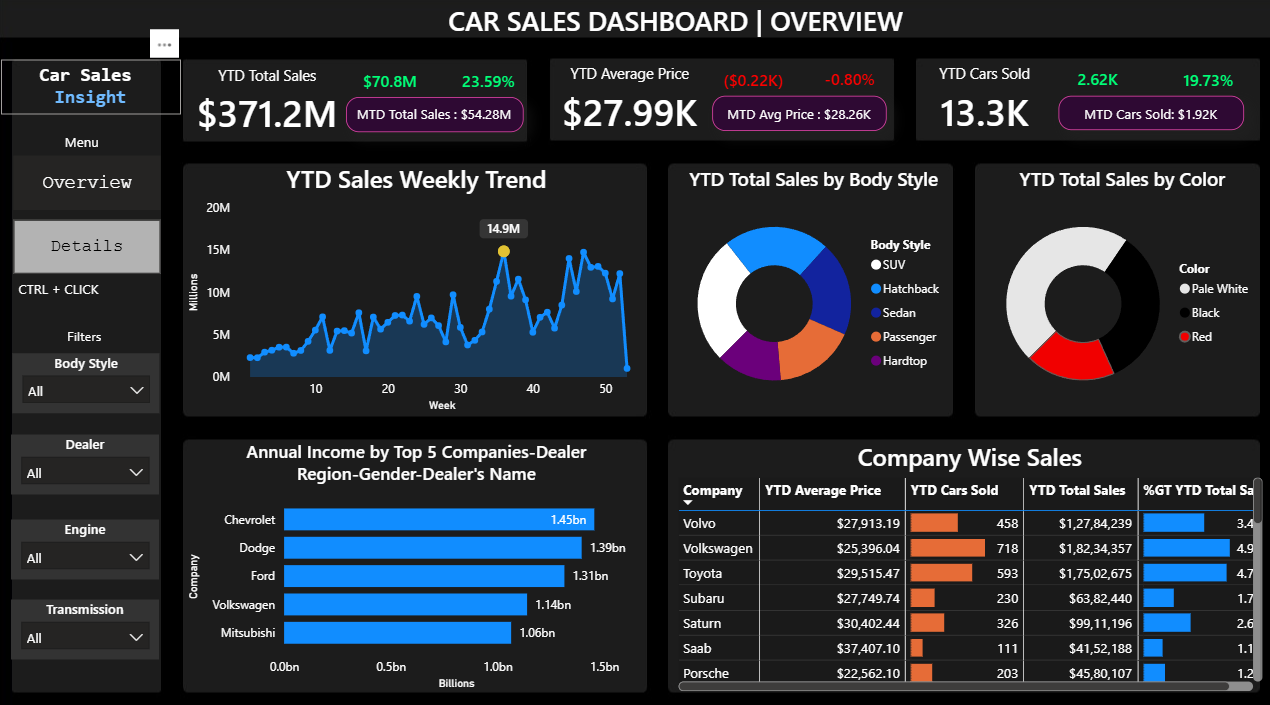

The page's visual inventory and layout, read from the dashboard file:
{"tool":"powerbi","page":{"name":"Overview","canvas":[1280,720],"ordinal":0},"visuals":[{"type":"card","title":"YTD Total Sales","fields":{"Values":["car_data.YTD Total Sales"]},"box":[178.9,67.2,185,76.7],"z":0},{"type":"card","fields":{"Values":["car_data.Sales Difference"]},"box":[355,68.3,78.3,35],"z":1000},{"type":"card","fields":{"Values":["car_data.YoY Sales Growth"]},"box":[458.5,70.5,68,25],"z":2000},{"type":"card","fields":{"Values":["car_data.MTD KPI"]},"box":[350,100,177.3,35.3],"z":3000},{"type":"card","title":"YTD Average Price","fields":{"Values":["car_data.YTD Average Price"]},"box":[540.8,65.8,185,76.7],"z":4000},{"type":"card","fields":{"Values":["car_data.Average Price Diff"]},"box":[685,67,145,35],"z":5000},{"type":"card","fields":{"Values":["car_data.YoY Avg Price Growth"]},"box":[820,69,68,25],"z":6000},{"type":"card","fields":{"Values":["car_data.MTD Avg Price KPI"]},"box":[715.8,99.2,174.2,35],"z":7000},{"type":"card","title":"YTD Cars Sold","fields":{"Values":["car_data.YTD Cars Sold"]},"box":[895.8,65.8,185,76.7],"z":8000},{"type":"card","fields":{"Values":["car_data.Sales Difference"]},"box":[1400,67.5,77.5,35],"z":9000},{"type":"card","fields":{"Values":["car_data.Total Cars Sold Diff"]},"box":[1029,68,146,34],"z":10000},{"type":"card","fields":{"Values":["car_data.Total Cars Sold Diff"]},"box":[1970.8,81.7,145,35],"z":11000},{"type":"card","fields":{"Values":["car_data.YoY Cars Sold Growth"]},"box":[1160,68,105,35],"z":12000},{"type":"card","fields":{"Values":["car_data.MTD Cars Sold KPI"]},"box":[1062,99.3,185.3,34.7],"z":13000},{"type":"areaChart","title":"YTD Sales Weekly Trend","fields":{"Category":["Date Table.Week"],"Y":["Sum(car_data.Price ($))","car_data.Max Point on Area Chart"]},"box":[187,165,466,255],"z":14000},{"type":"donutChart","fields":{"Category":["car_data.Body Style"],"Y":["car_data.YTD Total Sales"]},"box":[677.1,168.6,280,251.4],"z":15000},{"type":"donutChart","fields":{"Y":["car_data.YTD Total Sales"],"Category":["car_data.Color"]},"box":[985.7,168.6,280,251.4],"z":16000},{"type":"tableEx","title":"Company Wise Sales","fields":{"Values":["car_data.Company","car_data.YTD Average Price","car_data.YTD Cars Sold","car_data.YTD Total Sales1","car_data.YTD Total Sales"]},"box":[676.7,443.3,595,255],"z":17000},{"type":"textbox","box":[440,0,480,50],"z":18000},{"type":"slicer","title":"Body Style","fields":{"Values":["car_data.Body Style"]},"box":[15.7,355.8,147.5,60],"z":19000},{"type":"slicer","title":"Transmission","fields":{"Values":["car_data.Transmission"]},"box":[15.2,603.1,148,60],"z":20000},{"type":"slicer","title":"Engine","fields":{"Values":["car_data.Engine"]},"box":[15.2,523.1,148,60],"z":21000},{"type":"slicer","title":"Dealer","fields":{"Values":["car_data.Dealer_Name"]},"box":[15.2,437.1,148,60],"z":22000},{"type":"textbox","box":[66.2,325,56.2,37.5],"z":23000},{"type":"textbox","box":[63.8,131.3,56.4,36.8],"z":24000},{"type":"textbox","box":[5.6,62.2,178.9,55.6],"z":25000},{"type":"pageNavigator","box":[17.8,158.9,147.8,118.9],"z":26000},{"type":"textbox","box":[17.8,277.8,105.6,36.7],"z":27000},{"type":"clusteredBarChart","title":"Annual Income by Top 5 Companies-Dealer Region-Gender-Dealer''s Name","fields":{"Category":["car_data.Company","car_data.Dealer_Region","car_data.Gender","car_data.Dealer_Name"],"Y":["Sum(car_data.Annual Income)"]},"box":[187.6,442.9,466,255.4],"z":28000}]}

Visuals, with their boxes on the page's 1280x720 design canvas (x1, y1, x2, y2). These are canvas units, not pixel positions in the 1270x705 screenshot, which may show the page scaled, cropped or inside an application window:
"YTD Total Sales" card: [179,67,364,144]
card - car_data.Sales Difference: [355,68,433,103]
card - car_data.YoY Sales Growth: [458,70,526,96]
card - car_data.MTD KPI: [350,100,527,135]
"YTD Average Price" card: [541,66,726,142]
card - car_data.Average Price Diff: [685,67,830,102]
card - car_data.YoY Avg Price Growth: [820,69,888,94]
card - car_data.MTD Avg Price KPI: [716,99,890,134]
"YTD Cars Sold" card: [896,66,1081,142]
card - car_data.Sales Difference: [1400,68,1478,102]
card - car_data.Total Cars Sold Diff: [1029,68,1175,102]
card - car_data.Total Cars Sold Diff: [1971,82,2116,117]
card - car_data.YoY Cars Sold Growth: [1160,68,1265,103]
card - car_data.MTD Cars Sold KPI: [1062,99,1247,134]
"YTD Sales Weekly Trend" areaChart: [187,165,653,420]
donutChart - car_data.Body Style x car_data.YTD Total Sales: [677,169,957,420]
donutChart - car_data.YTD Total Sales x car_data.Color: [986,169,1266,420]
"Company Wise Sales" tableEx: [677,443,1272,698]
textbox: [440,0,920,50]
"Body Style" slicer: [16,356,163,416]
"Transmission" slicer: [15,603,163,663]
"Engine" slicer: [15,523,163,583]
"Dealer" slicer: [15,437,163,497]
textbox: [66,325,122,362]
textbox: [64,131,120,168]
textbox: [6,62,184,118]
pageNavigator: [18,159,166,278]
textbox: [18,278,123,314]
"Annual Income by Top 5 Companies-Dealer Region-Gender-Dealer''s Name" clusteredBarChart: [188,443,654,698]
